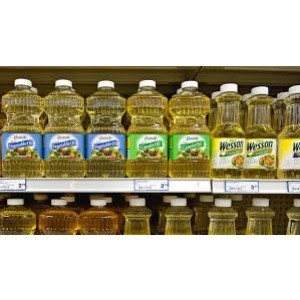vegetable oil_brain food: (3, 76, 289, 180), (1, 191, 292, 235)
